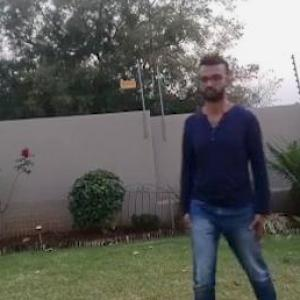follow: (173, 55, 264, 299)
